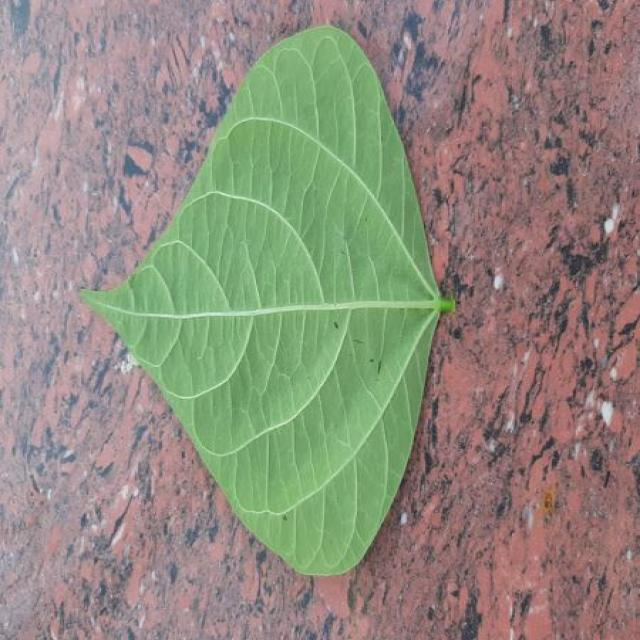beans: (83, 26, 453, 574)
